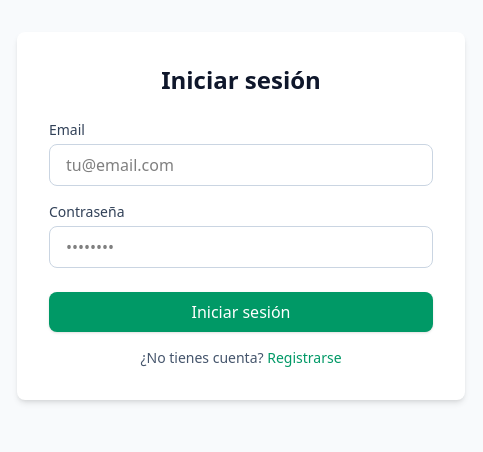
Scenario: <Login /> › debe mostrar error si se intenta enviar el formulario con campos vacíos
Click the button "Iniciar sesión" at [241, 312], box [49,292,433,332]
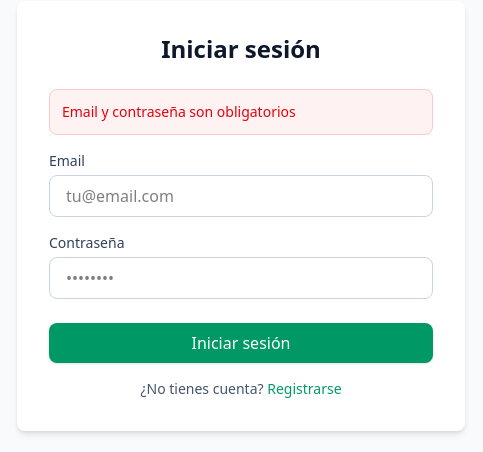
Now the text "Email y contraseña son obligatorios" is shown, box [62,102,296,121]
